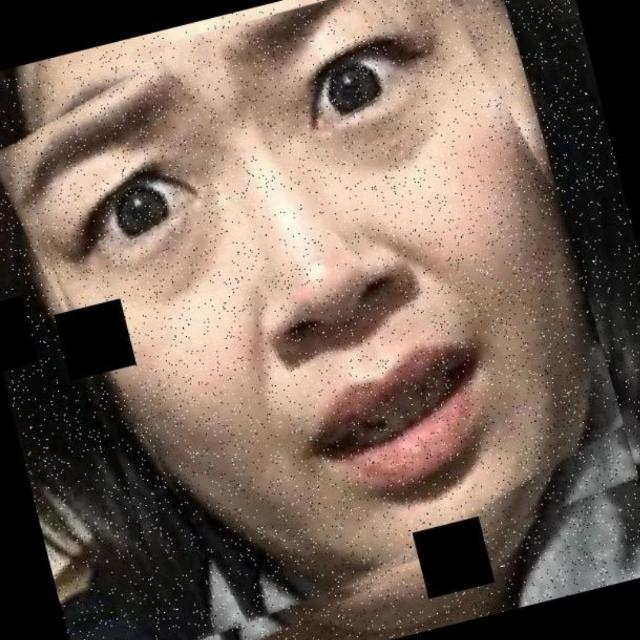Surprised: (25, 13, 574, 572)
